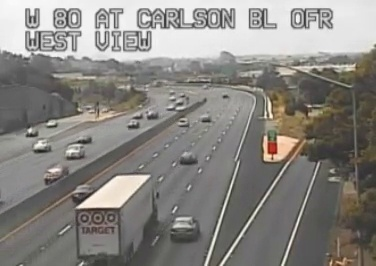car: (171, 216, 199, 239), (72, 185, 94, 202), (181, 152, 196, 164)
truck: (76, 174, 157, 266)
